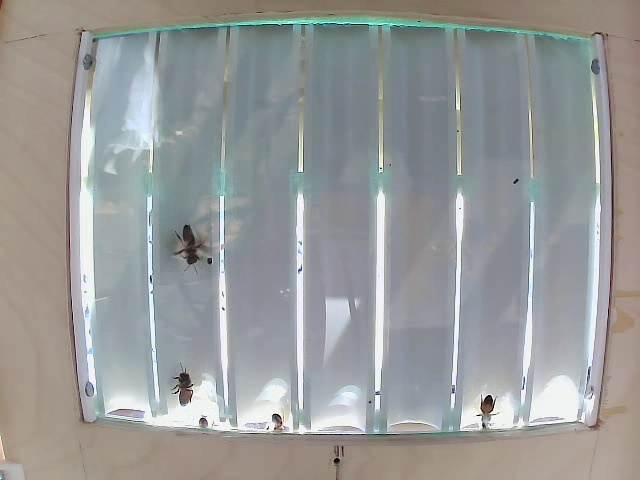bee: (172, 220, 217, 271), (167, 359, 210, 401)
